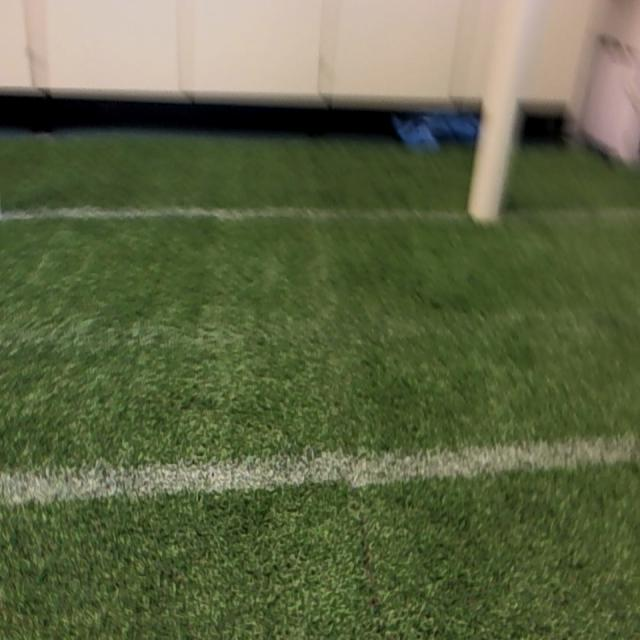goalpost: (464, 1, 535, 223)
